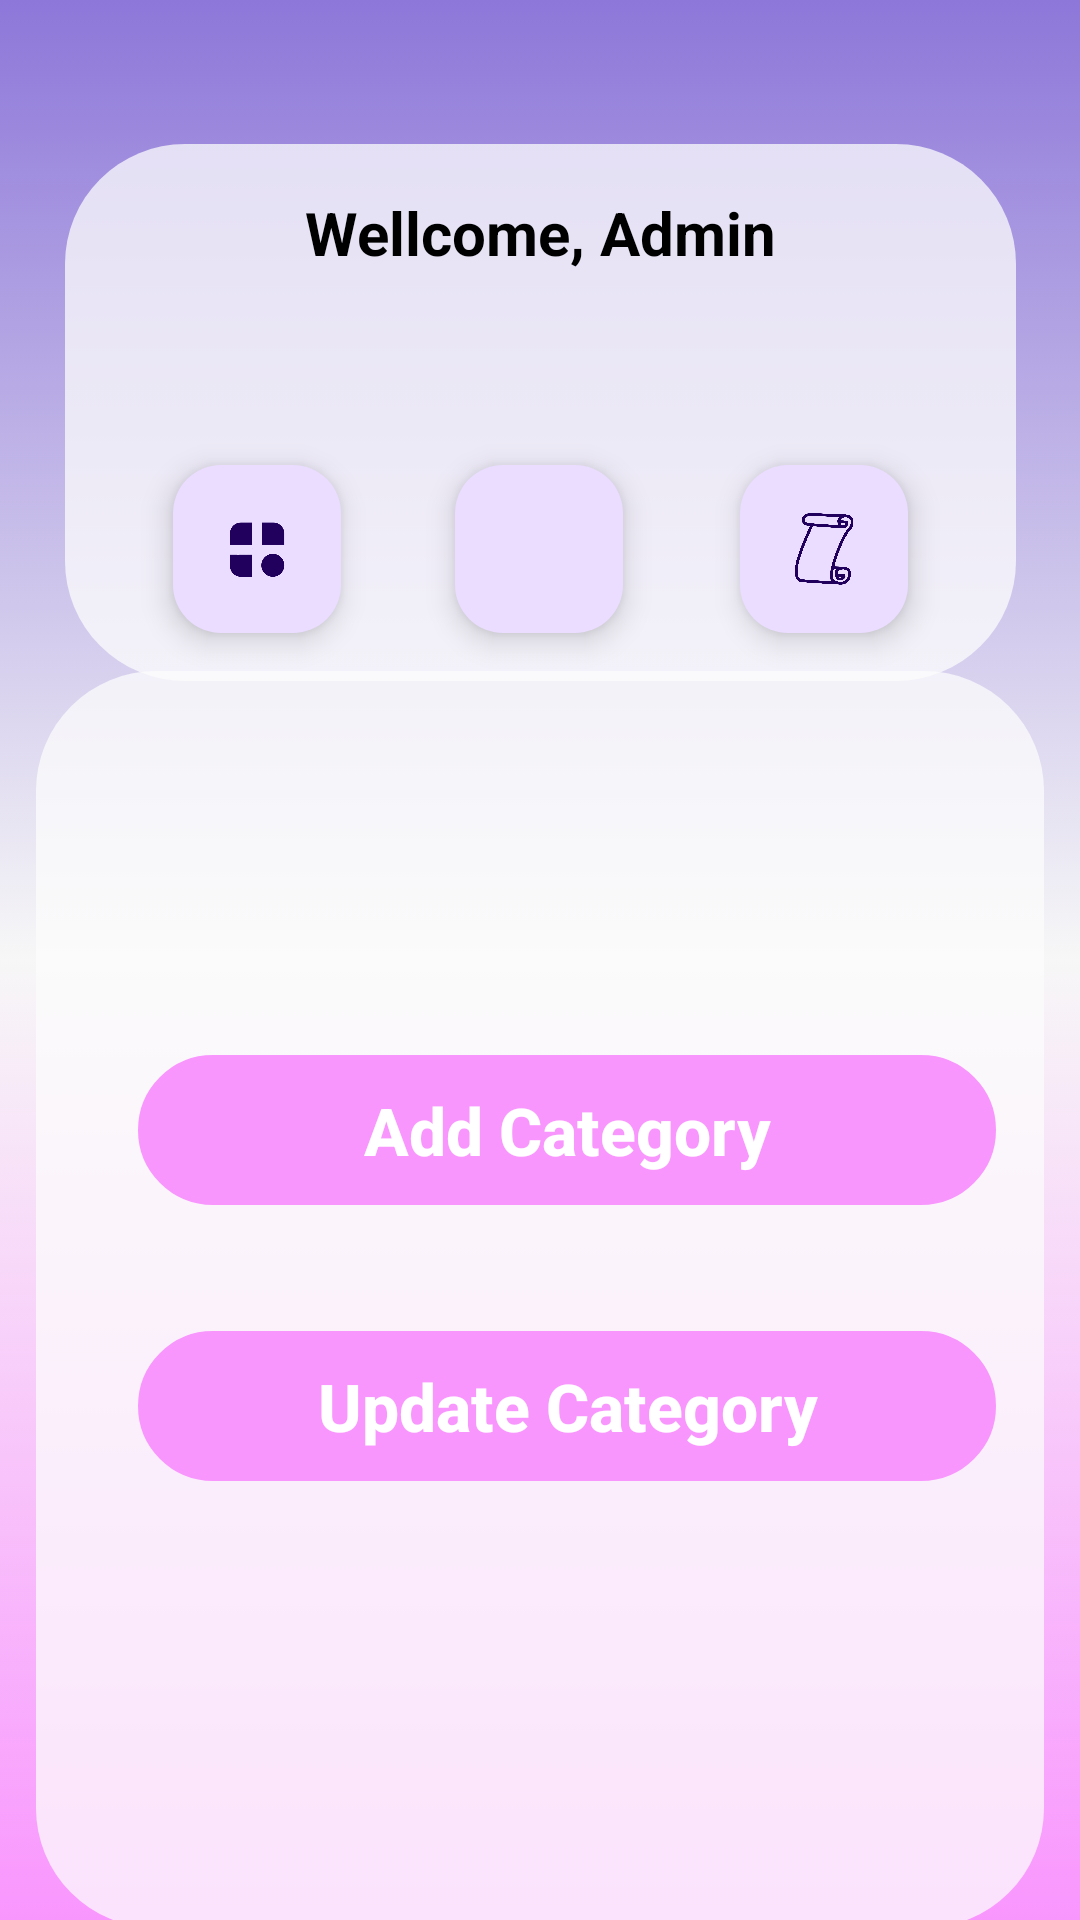

Icon click points for this 1080px x 1920px phone screenshot, format (x=x, y=y):
category: (x=257, y=549)
